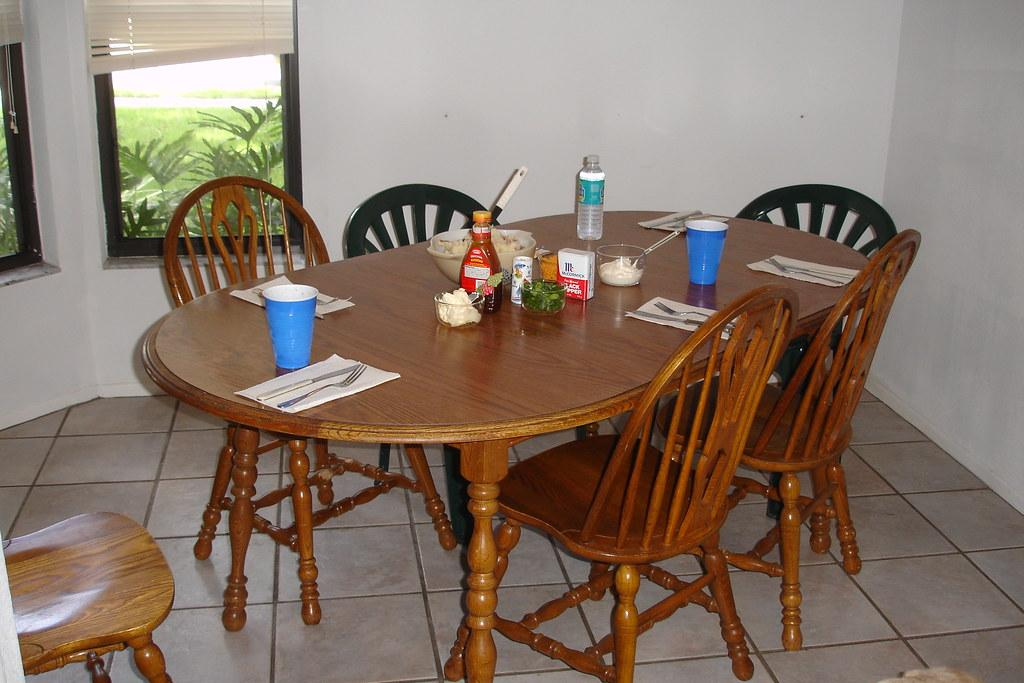table: (141, 208, 879, 681)
